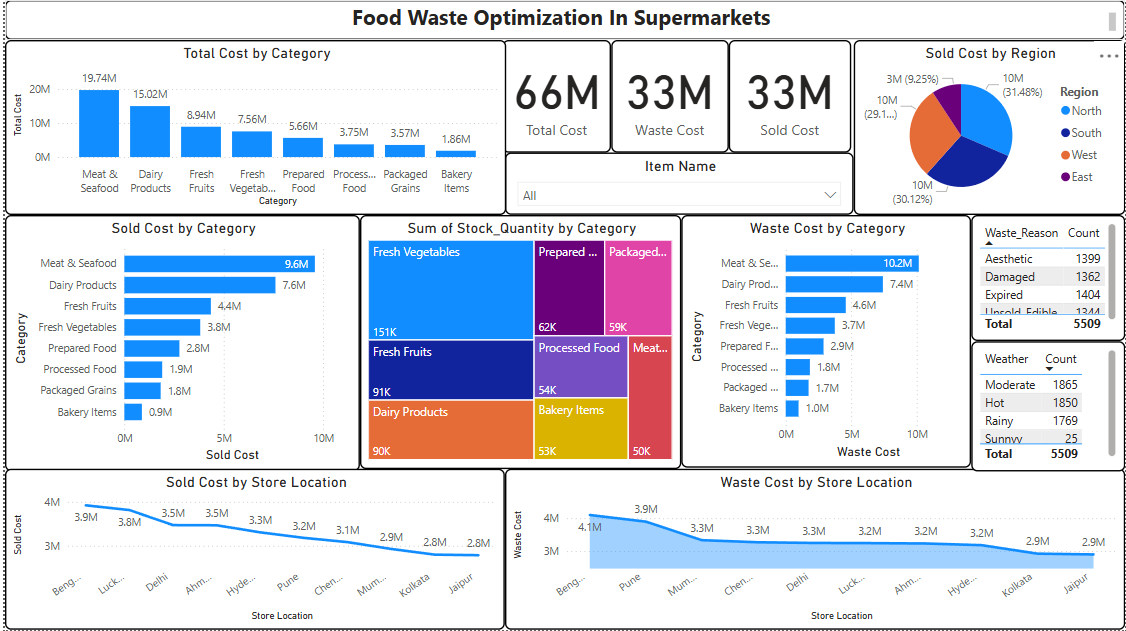

What the dashboard file says about the page in this screenshot:
{"tool":"powerbi","page":{"name":"Page 1","canvas":[1280,720],"ordinal":0},"visuals":[{"type":"clusteredBarChart","fields":{"Category":["Table1.Category"],"Y":["Table1.Sold Cost"]},"box":[0,245.7,405.7,292.9],"z":0},{"type":"clusteredBarChart","fields":{"Category":["Table1.Category"],"Y":["Table1.Waste Cost"]},"box":[772.9,245.7,331.4,288.6],"z":1000},{"type":"pieChart","fields":{"Category":["Table1.Region"],"Y":["Table1.Sold Cost"]},"box":[970,45.7,310,200],"z":2000},{"type":"slicer","title":"Item Name","fields":{"Values":["Table1.Item_Name"]},"box":[572,174.3,398.6,71.4],"z":3000},{"type":"treemap","fields":{"Group":["Table1.Category"],"Values":["Sum(Table1.Stock_Quantity)"]},"box":[405.7,245.7,367.1,290],"z":4000},{"type":"lineChart","title":"Sold Cost by Store Location","fields":{"Category":["Table1.Store_Location"],"Y":["Table1.Sold Cost"]},"box":[0,535.7,571.4,184.3],"z":5000},{"type":"areaChart","fields":{"Category":["Table1.Store_Location"],"Y":["Table1.Waste Cost"]},"box":[571.4,535.7,708.6,184.3],"z":6000},{"type":"tableEx","fields":{"Values":["Table1.Waste_Reason","Table1.Store_Location"]},"box":[1104.3,245.7,175.7,144.3],"z":7000},{"type":"card","fields":{"Values":["Table1.Total Cost"]},"box":[568.6,45.7,124.3,128.6],"z":8000},{"type":"card","fields":{"Values":["Table1.Waste Cost"]},"box":[692.9,45.7,134.3,128.6],"z":9000},{"type":"card","fields":{"Values":["Table1.Sold Cost"]},"box":[827.1,45.7,140,128.6],"z":10000},{"type":"tableEx","fields":{"Values":["Table1.Weather","Table1.Store_Location"]},"box":[1104.3,390,175.7,148.6],"z":11000},{"type":"clusteredColumnChart","fields":{"Category":["Table1.Category"],"Y":["Table1.Total Cost"]},"box":[0,45.7,572.9,200],"z":12000},{"type":"textbox","box":[0,0,1280,45.7],"z":12001}]}

Visuals, with their boxes in screenshot pixels (x1, y1, x2, y2), scaled from the page's 1280x720 canvas onto the 1126x631 screenshot:
clusteredBarChart - Table1.Category x Table1.Sold Cost: left=0, top=215, right=357, bottom=472
clusteredBarChart - Table1.Category x Table1.Waste Cost: left=680, top=215, right=971, bottom=468
pieChart - Table1.Region x Table1.Sold Cost: left=853, top=40, right=1125, bottom=215
"Item Name" slicer: left=503, top=153, right=854, bottom=215
treemap - Table1.Category x Sum(Table1.Stock_Quantity): left=357, top=215, right=680, bottom=469
"Sold Cost by Store Location" lineChart: left=0, top=469, right=503, bottom=630
areaChart - Table1.Store_Location x Table1.Waste Cost: left=503, top=469, right=1125, bottom=630
tableEx - Table1.Waste_Reason x Table1.Store_Location: left=971, top=215, right=1125, bottom=342
card - Table1.Total Cost: left=500, top=40, right=610, bottom=153
card - Table1.Waste Cost: left=610, top=40, right=728, bottom=153
card - Table1.Sold Cost: left=728, top=40, right=851, bottom=153
tableEx - Table1.Weather x Table1.Store_Location: left=971, top=342, right=1125, bottom=472
clusteredColumnChart - Table1.Category x Table1.Total Cost: left=0, top=40, right=504, bottom=215
textbox: left=0, top=0, right=1125, bottom=40
